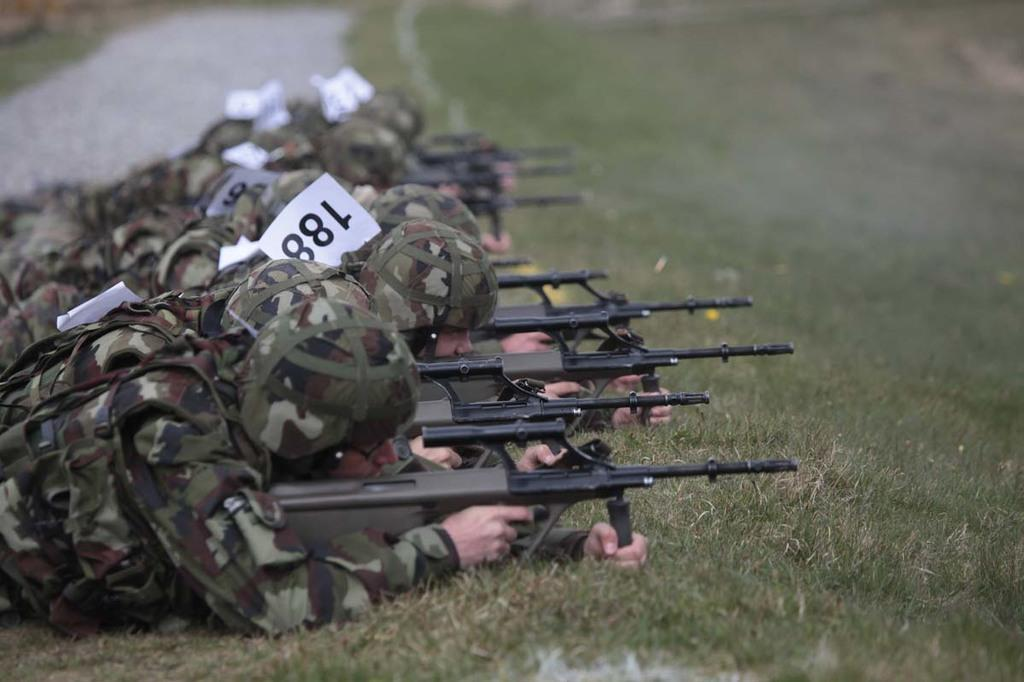Rifle: (262, 460, 799, 573), (397, 351, 710, 459), (416, 346, 795, 433), (467, 291, 756, 349), (402, 160, 592, 197), (464, 194, 585, 240), (421, 134, 575, 168), (500, 269, 611, 306), (484, 255, 543, 274)
